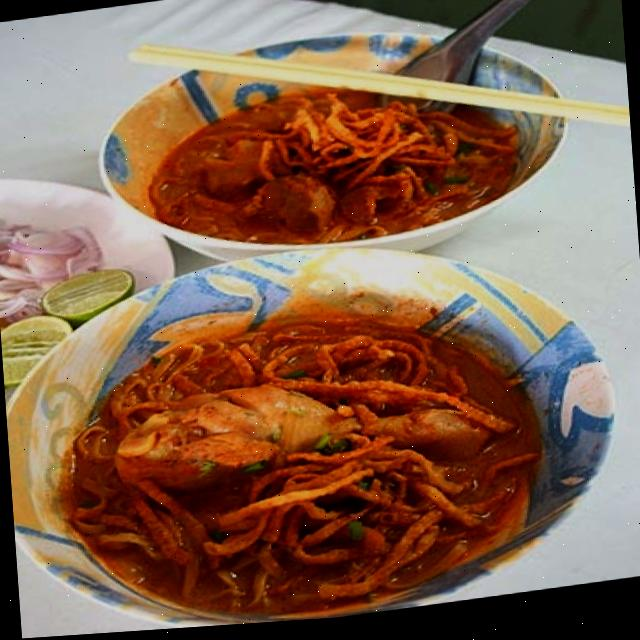面条主食: (0, 211, 640, 640)
